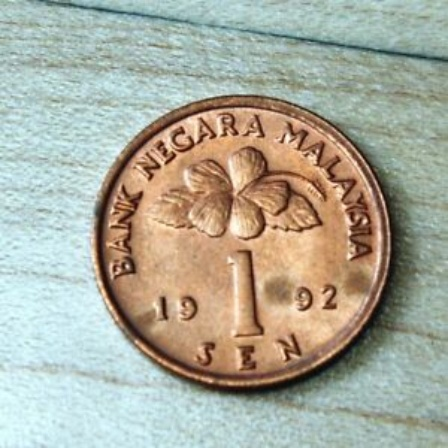1c: (87, 93, 396, 393)
